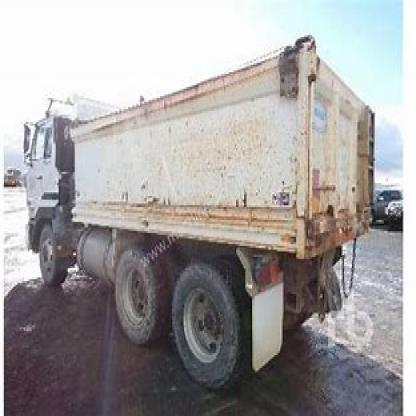dump_truck: (21, 33, 382, 379)
